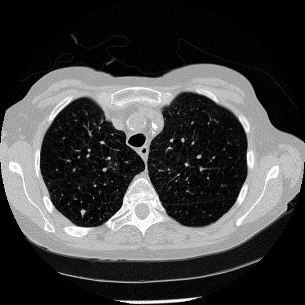nodule: (78, 208, 86, 216)
